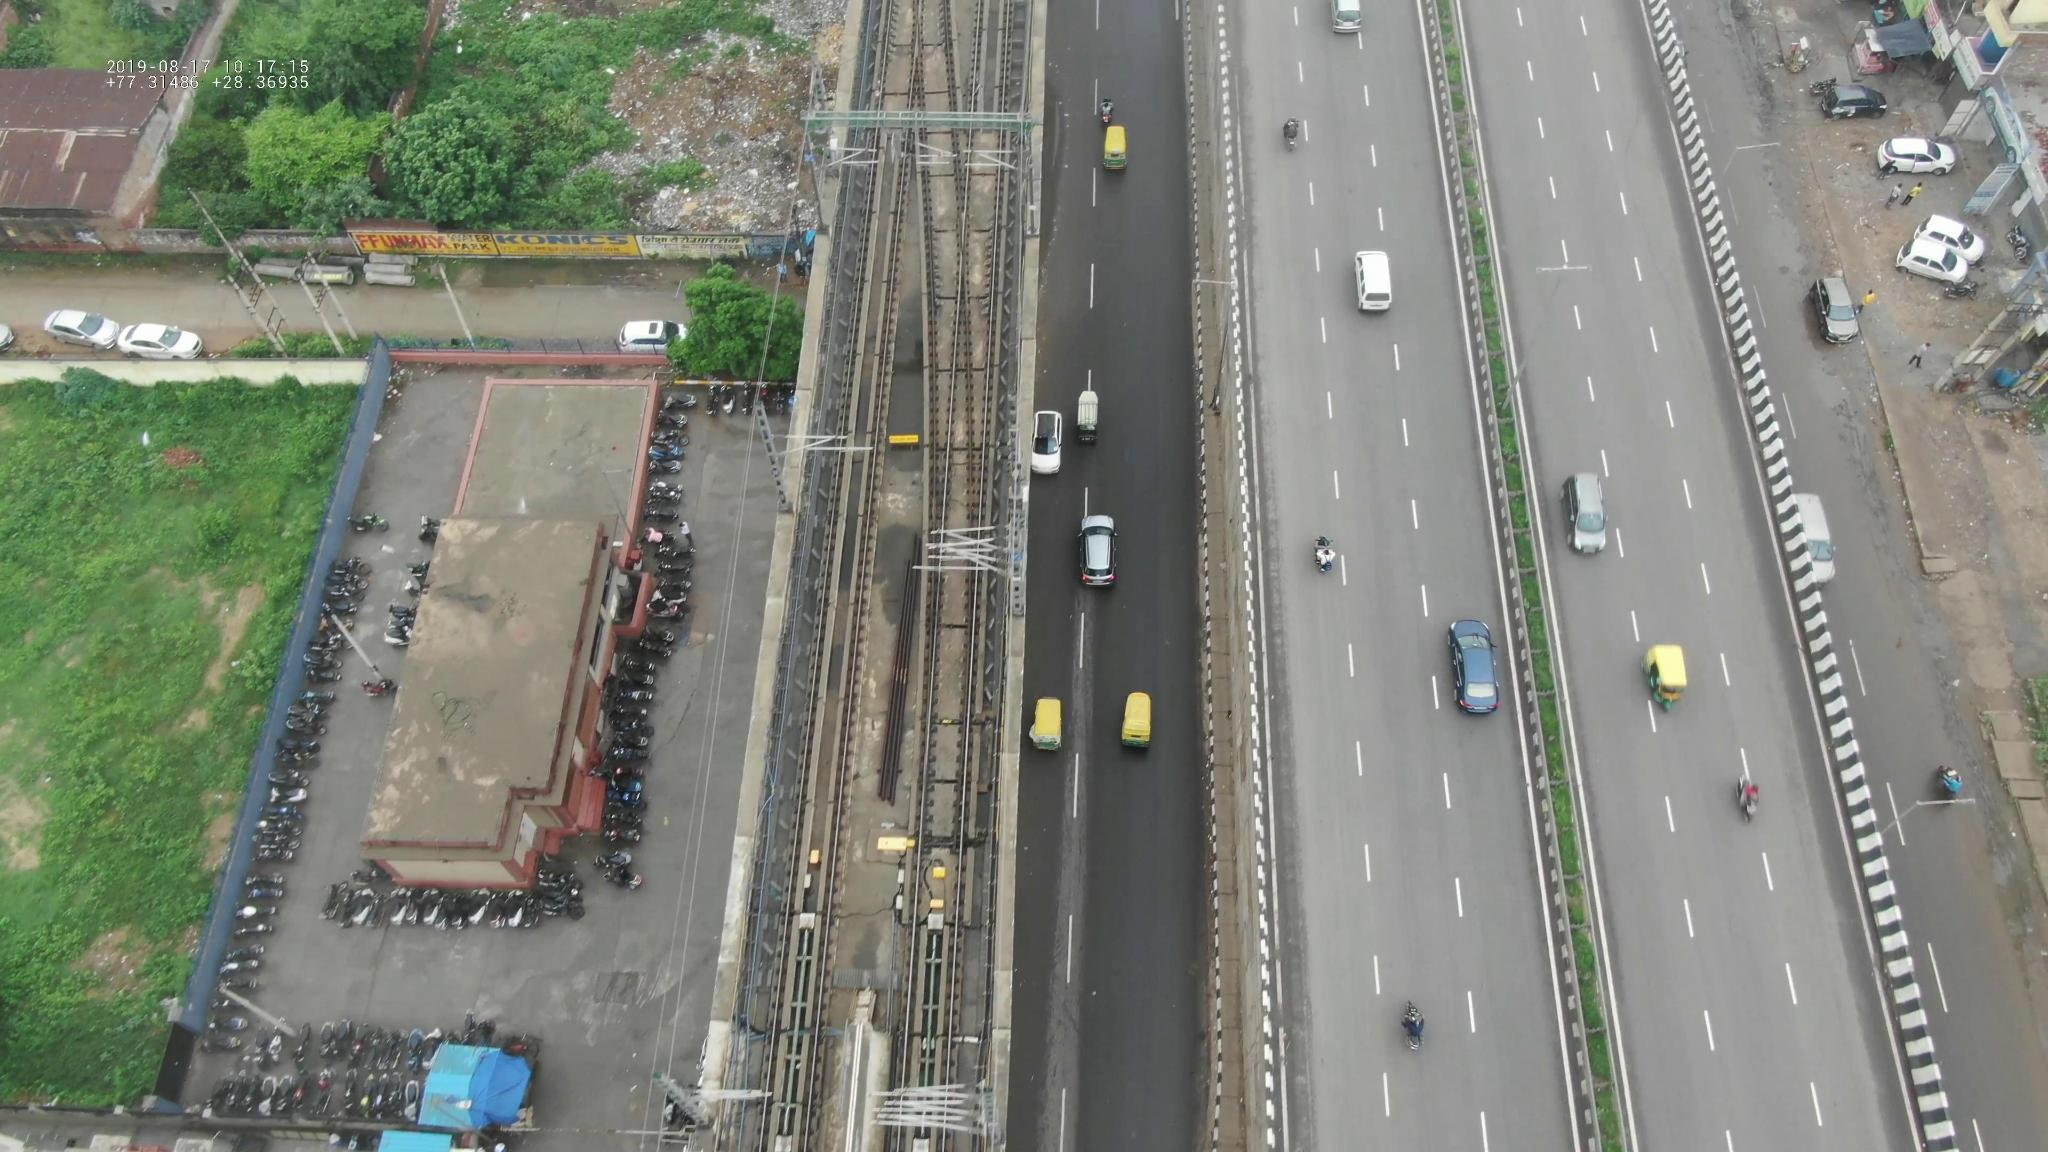Muddy_road: (1755, 98, 1844, 248), (1737, 8, 1792, 91)
